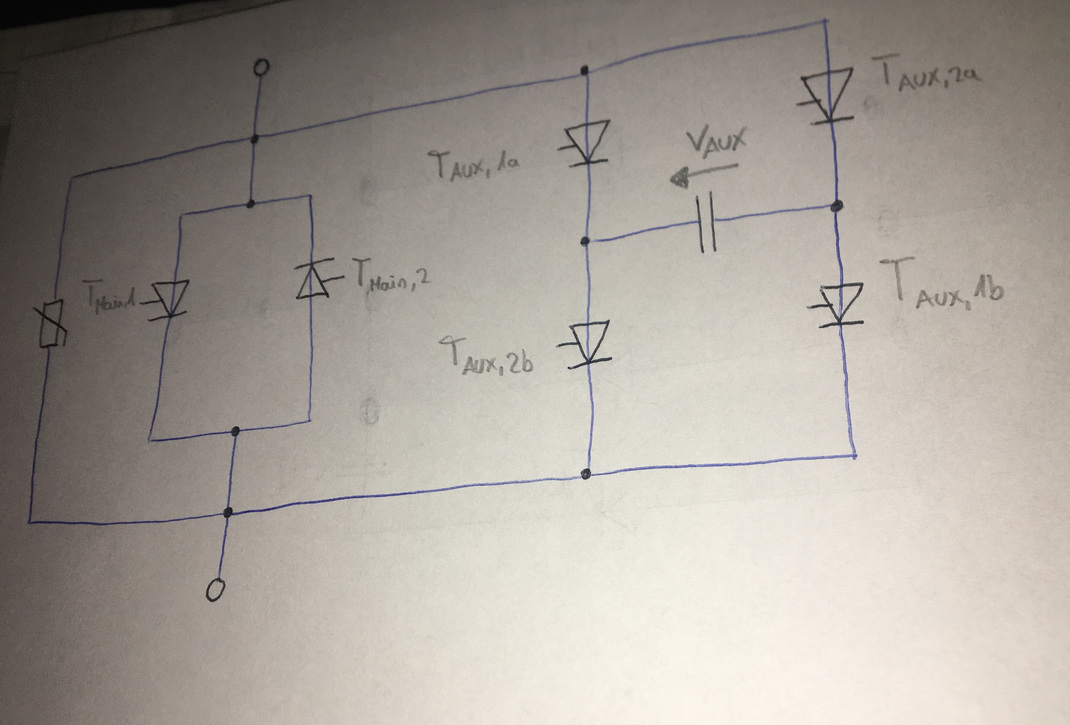capacitor.unpolarized: (692, 189, 724, 257)
junction: (578, 234, 599, 250), (828, 198, 845, 215), (577, 63, 593, 79), (579, 467, 594, 482), (221, 505, 235, 521), (247, 132, 262, 146), (848, 448, 862, 462), (229, 424, 242, 439), (176, 210, 190, 222), (145, 431, 156, 446), (818, 15, 831, 27), (244, 197, 256, 210), (24, 517, 35, 529), (67, 172, 77, 184), (304, 191, 315, 201), (304, 415, 313, 426)
terminal: (203, 575, 228, 604), (251, 55, 271, 78)
text: (876, 251, 1008, 315), (867, 50, 986, 97), (436, 332, 536, 380), (425, 147, 521, 184), (349, 254, 433, 296), (683, 122, 753, 162), (79, 276, 138, 317)
thyristor: (797, 64, 860, 129), (814, 279, 869, 333), (565, 317, 617, 372), (562, 118, 613, 169), (145, 279, 192, 324), (292, 255, 336, 301)
varistor: (30, 296, 70, 352)
